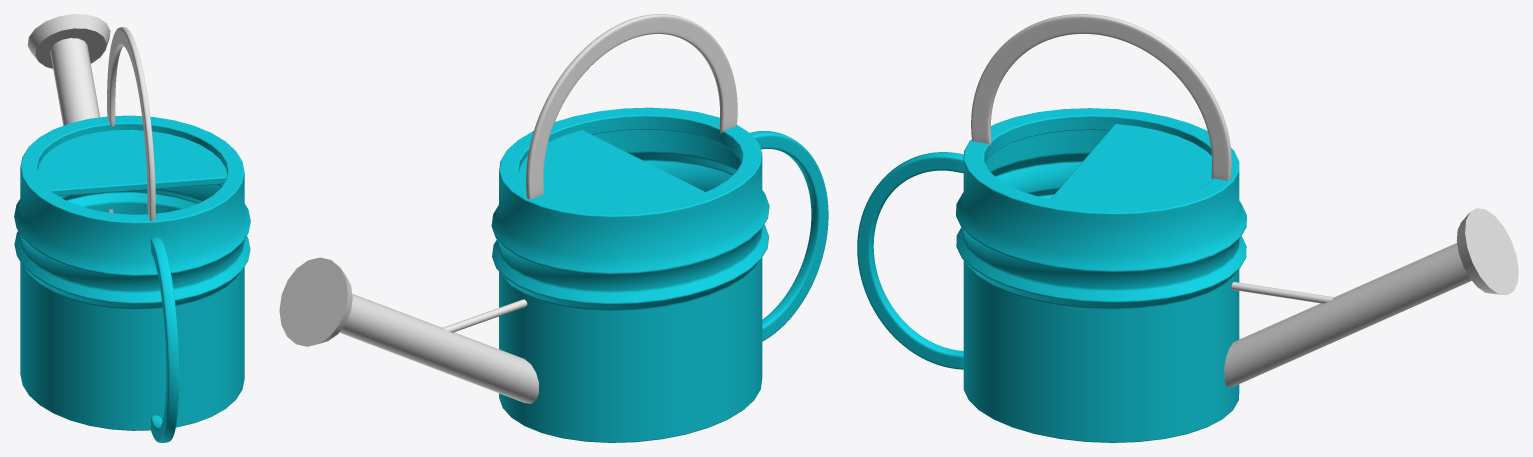
The model's file is penyiram.fbx.
The picture shows the model from 3 angles, left to right: view 1: azimuth 30°, elevation 25°; view 2: azimuth 150°, elevation 25°; view 3: azimuth 270°, elevation 25°; orthographic projection. The views are drawn at different scales.
Parts seen in each view (by area): view 1: Cylinder.094, Cylinder.051, Cylinder.054, Cylinder.053, Cylinder.052; view 2: Cylinder.094, Cylinder.051, Cylinder.053, Cylinder.052, Cylinder.054, Cylinder.093; view 3: Cylinder.094, Cylinder.051, Cylinder.053, Cylinder.054, Cylinder.052, Cylinder.093.
Part boxes in pixels (x1=…): Cylinder.094: x1=14, y1=115, x2=250, y2=430; Cylinder.051: x1=50, y1=38, x2=99, y2=125; Cylinder.054: x1=150, y1=237, x2=179, y2=442; Cylinder.053: x1=107, y1=27, x2=155, y2=220; Cylinder.052: x1=27, y1=14, x2=110, y2=68; Cylinder.094: x1=491, y1=107, x2=769, y2=442; Cylinder.051: x1=339, y1=293, x2=538, y2=403; Cylinder.053: x1=526, y1=14, x2=737, y2=199; Cylinder.052: x1=279, y1=257, x2=352, y2=346; Cylinder.054: x1=750, y1=131, x2=828, y2=341; Cylinder.093: x1=443, y1=299, x2=527, y2=332; Cylinder.094: x1=956, y1=108, x2=1246, y2=442; Cylinder.051: x1=1224, y1=243, x2=1471, y2=388; Cylinder.053: x1=971, y1=14, x2=1231, y2=180; Cylinder.054: x1=857, y1=152, x2=963, y2=369; Cylinder.052: x1=1456, y1=208, x2=1518, y2=295; Cylinder.093: x1=1231, y1=282, x2=1333, y2=303.
Size of the model in its own units: 325 by 418 by 671.
